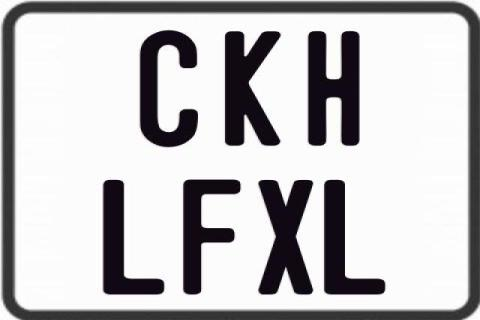C: (140, 29, 202, 149)
F: (183, 178, 246, 292)
H: (305, 30, 357, 148)
K: (224, 29, 282, 145)
L: (102, 180, 169, 298), (321, 180, 385, 296)
X: (257, 180, 312, 296)
